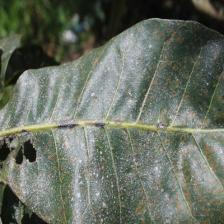red rust: (0, 19, 223, 223)
